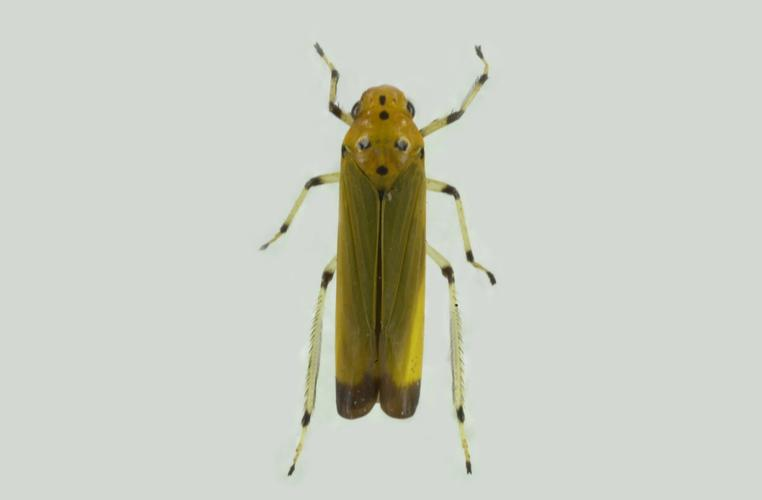Cicadellidae: (261, 44, 495, 477)
